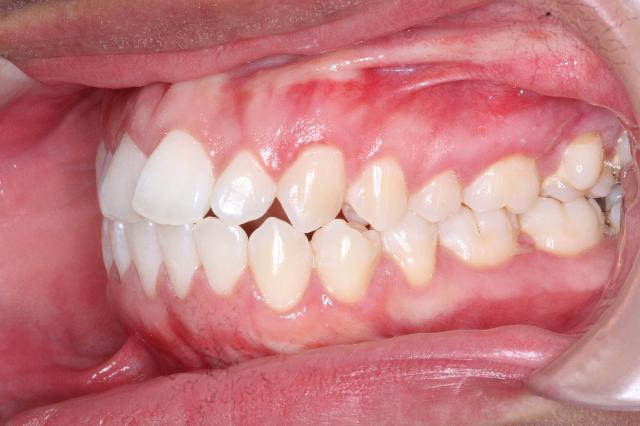canine class II 1/4: (248, 137, 382, 323)
molar class III 1/4: (440, 144, 540, 270)
